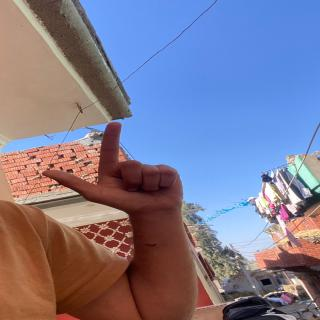LAAM: (41, 118, 195, 221)
